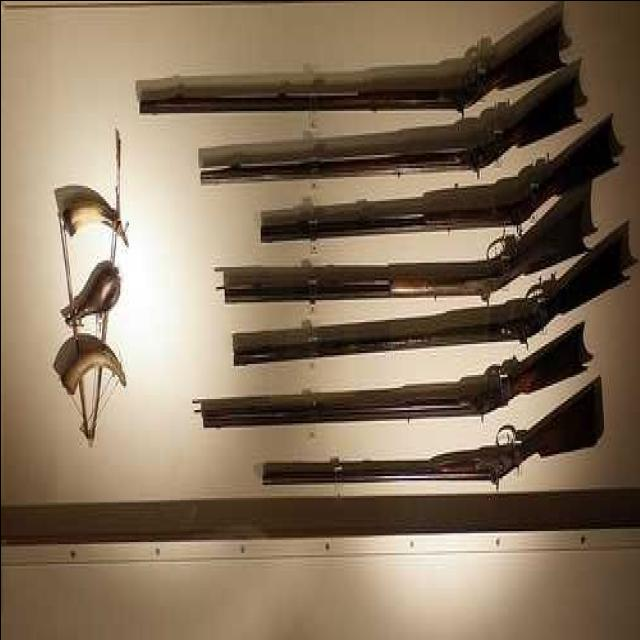heavyweapon: (167, 309, 585, 454), (237, 379, 608, 518)
